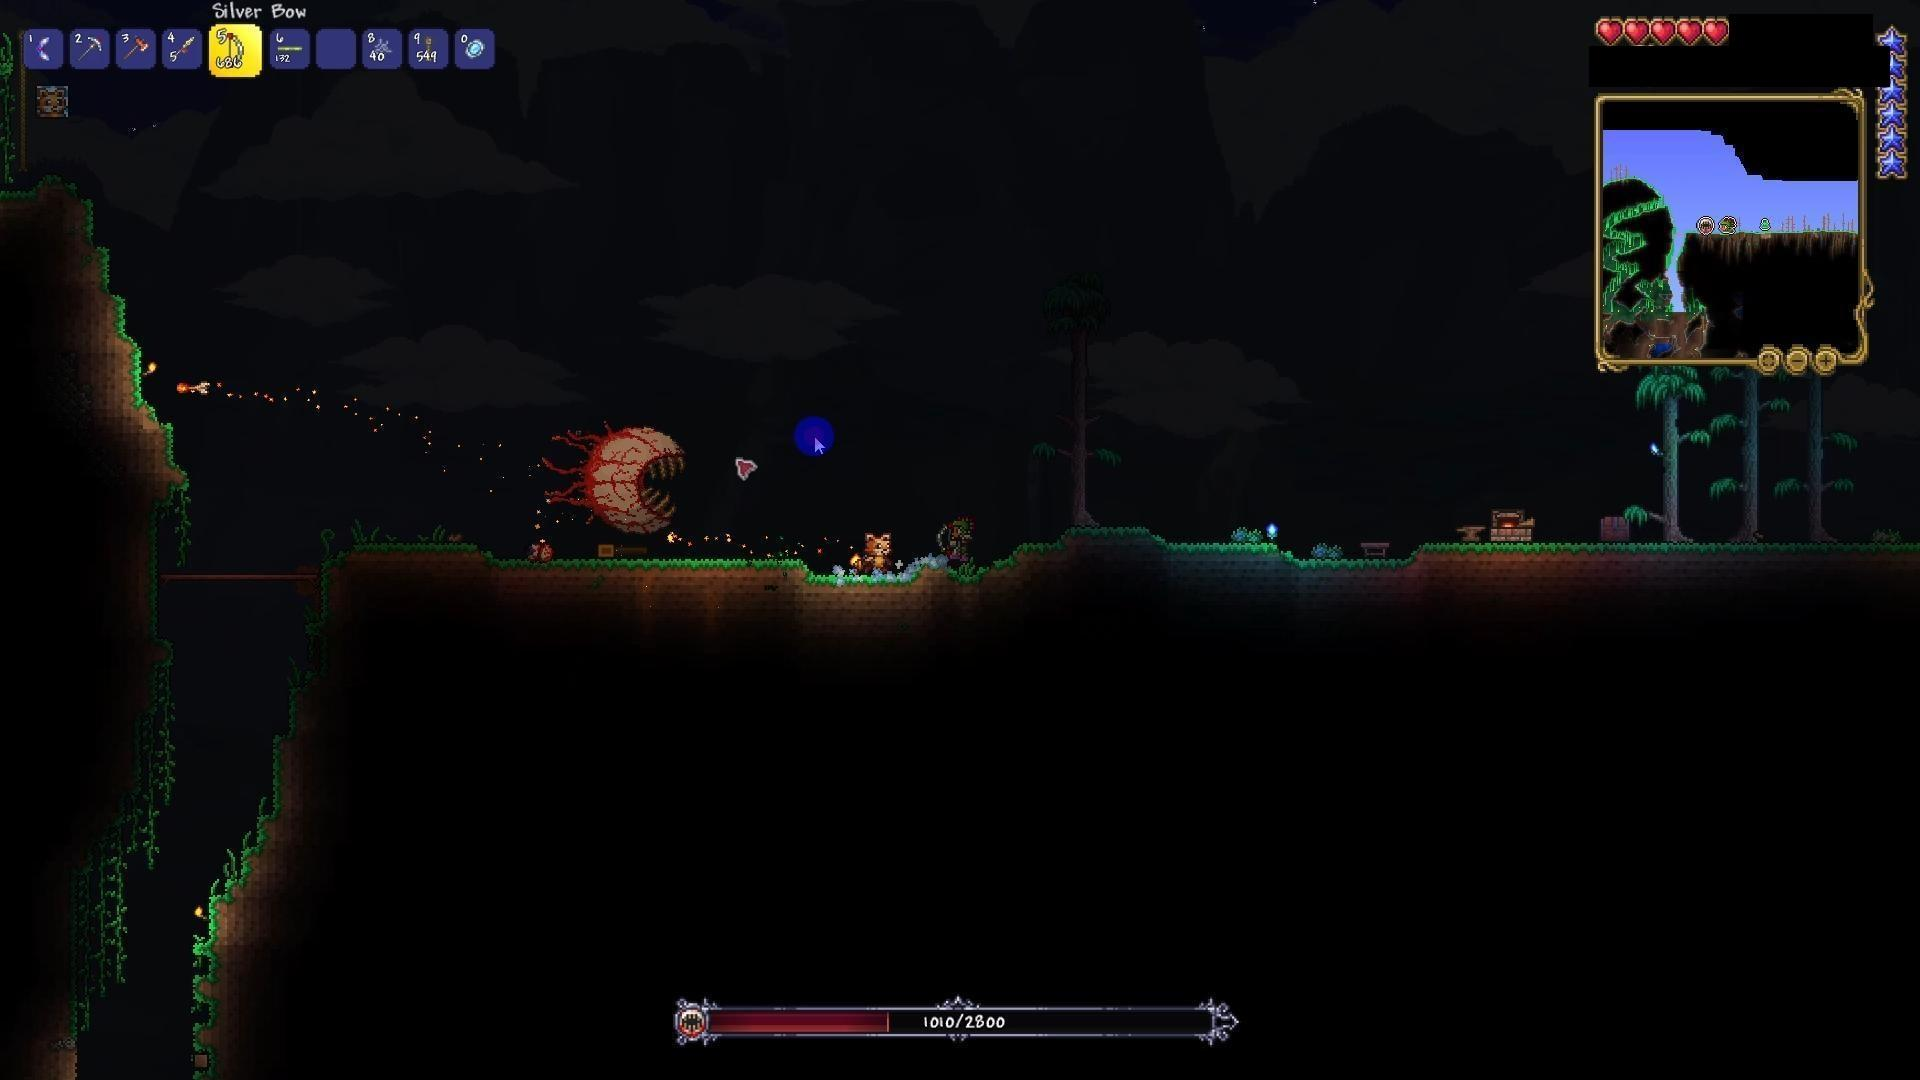dirt: (37, 177, 203, 488), (320, 531, 823, 611), (1414, 531, 1919, 593), (240, 622, 348, 865), (1054, 513, 1349, 587), (112, 501, 183, 703), (190, 877, 237, 1067), (909, 539, 1047, 593), (1284, 541, 1420, 589), (819, 570, 910, 604)
heart: (1702, 17, 1733, 51), (1593, 16, 1626, 46), (1676, 15, 1704, 50), (1650, 16, 1676, 49), (1625, 15, 1651, 44)
tree: (1630, 371, 1717, 549)
